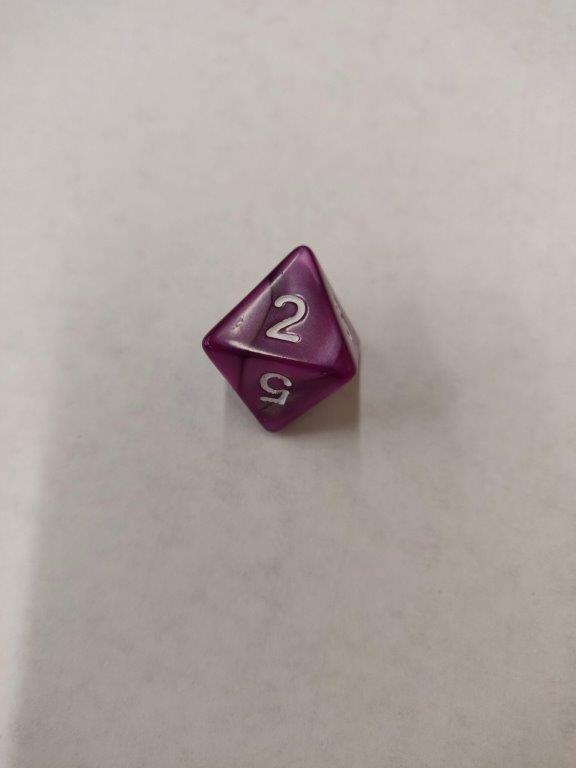d8-2: (201, 246, 362, 430)
